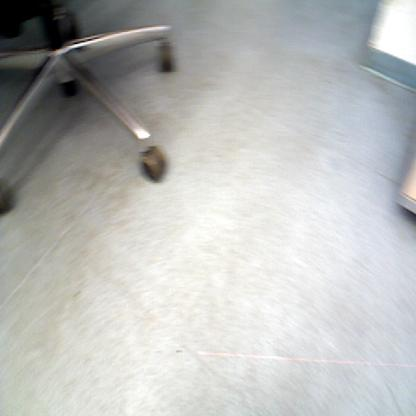mark: (384, 382, 404, 416), (72, 289, 82, 299), (175, 348, 183, 356)
